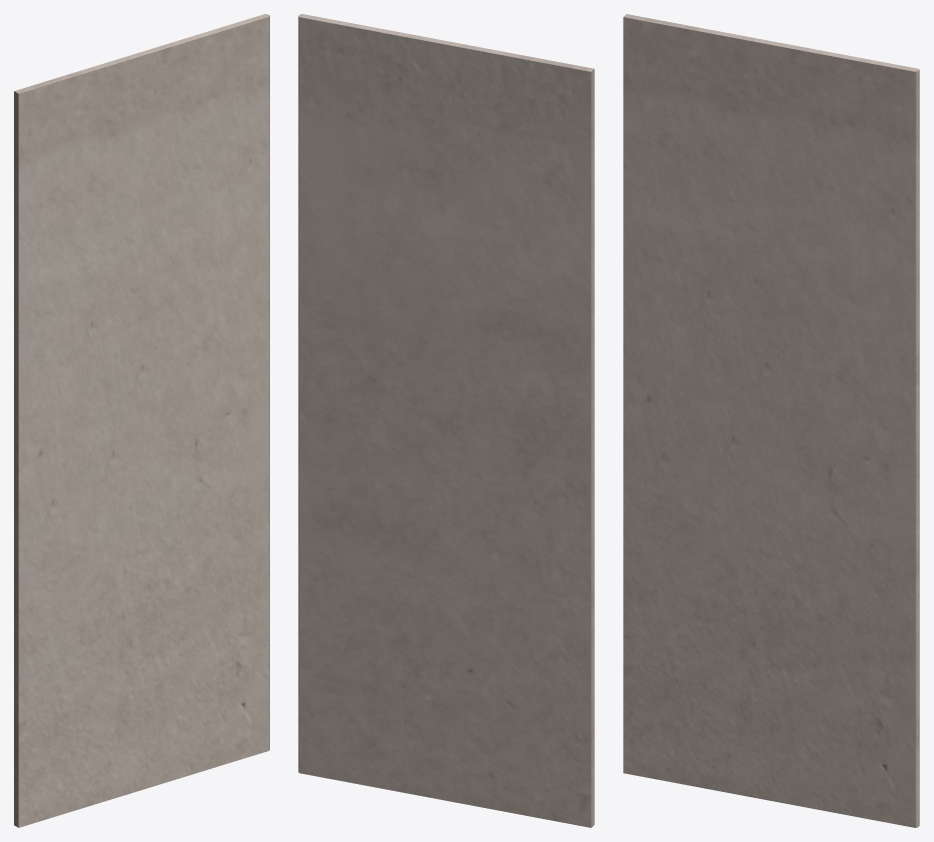
File: MeshBox_20_FlapInner_1_3.obj
3 renders of one model, left to right at view 1: azimuth 30°, elevation 25°; view 2: azimuth 150°, elevation 25°; view 3: azimuth 330°, elevation 25°, orthographic. The views are drawn at different scales.
Visible parts, largest first — view 1: Box_20_FlapInner_1; view 2: Box_20_FlapInner_1; view 3: Box_20_FlapInner_1.
Part boxes in pixels (x1,y1,x2,y2): Box_20_FlapInner_1: (14,14,269,827); Box_20_FlapInner_1: (298,14,594,827); Box_20_FlapInner_1: (623,14,919,827).
Bounding box in the file's own units: 0.0878 × 0.2287 × 0.0115.
1 material, 1 textured.
